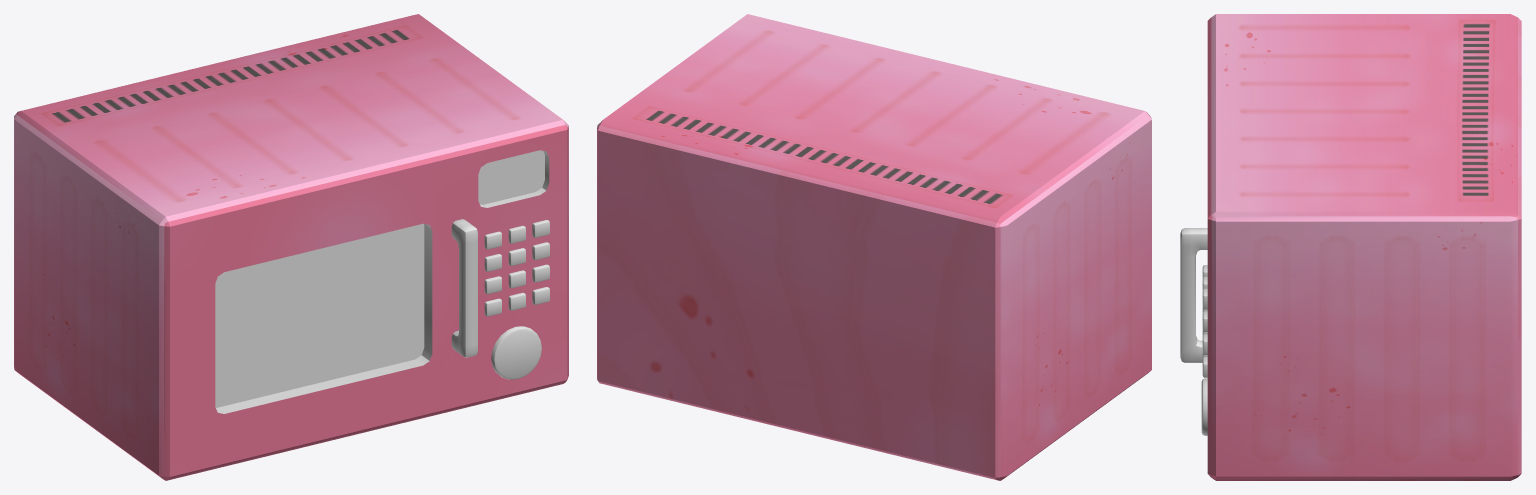
File: Microwave 1.fbx
The picture shows the model from 3 angles, left to right: view 1: azimuth 30°, elevation 25°; view 2: azimuth 150°, elevation 25°; view 3: azimuth 270°, elevation 25°; orthographic projection.
Parts seen in each view (by area): view 1: Microwave; view 2: Microwave; view 3: Microwave.
Part boxes in pixels (left/top/right/bottom): Microwave: left=14, top=14, right=568, bottom=480; Microwave: left=597, top=14, right=1151, bottom=480; Microwave: left=1180, top=14, right=1521, bottom=480.
Bounding box in the file's own units: 224 × 138 × 159.
